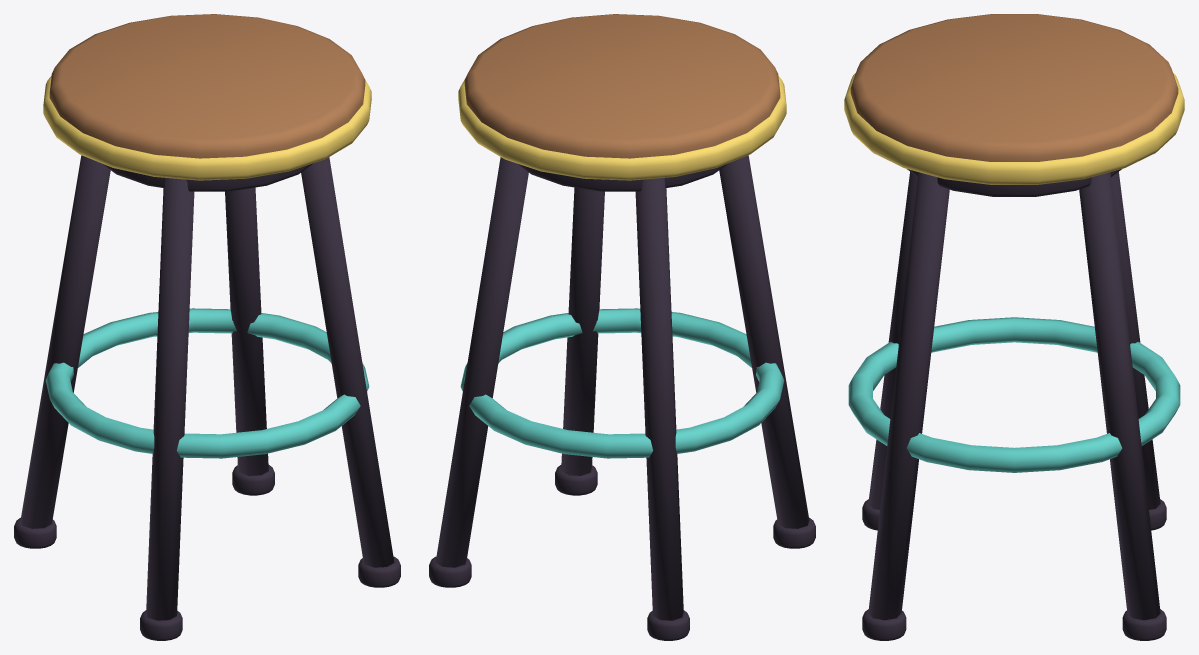
File: lab-stool.glb
3 renders of one model, left to right at view 1: azimuth 30°, elevation 25°; view 2: azimuth 150°, elevation 25°; view 3: azimuth 270°, elevation 25°, orthographic. The views are drawn at different scales.
Visible parts, largest first — view 1: LabStool_SlateLegs, LabStool_WoodSeat, LabStool_TurquoiseFootrest, LabStool_ButterRim; view 2: LabStool_SlateLegs, LabStool_WoodSeat, LabStool_TurquoiseFootrest, LabStool_ButterRim; view 3: LabStool_SlateLegs, LabStool_WoodSeat, LabStool_TurquoiseFootrest, LabStool_ButterRim.
Boxes of the visible parts, bbox=[...] form: LabStool_SlateLegs: bbox=[14, 155, 400, 640]; LabStool_WoodSeat: bbox=[49, 14, 365, 158]; LabStool_TurquoiseFootrest: bbox=[45, 308, 369, 458]; LabStool_ButterRim: bbox=[43, 76, 371, 180]; LabStool_SlateLegs: bbox=[429, 155, 815, 640]; LabStool_WoodSeat: bbox=[464, 14, 780, 158]; LabStool_TurquoiseFootrest: bbox=[460, 308, 784, 458]; LabStool_ButterRim: bbox=[458, 76, 786, 180]; LabStool_SlateLegs: bbox=[862, 169, 1166, 640]; LabStool_WoodSeat: bbox=[850, 14, 1178, 161]; LabStool_TurquoiseFootrest: bbox=[848, 317, 1180, 472]; LabStool_ButterRim: bbox=[844, 73, 1184, 184].
Bounding box in the file's own units: 0.3662 × 0.6 × 0.37.
